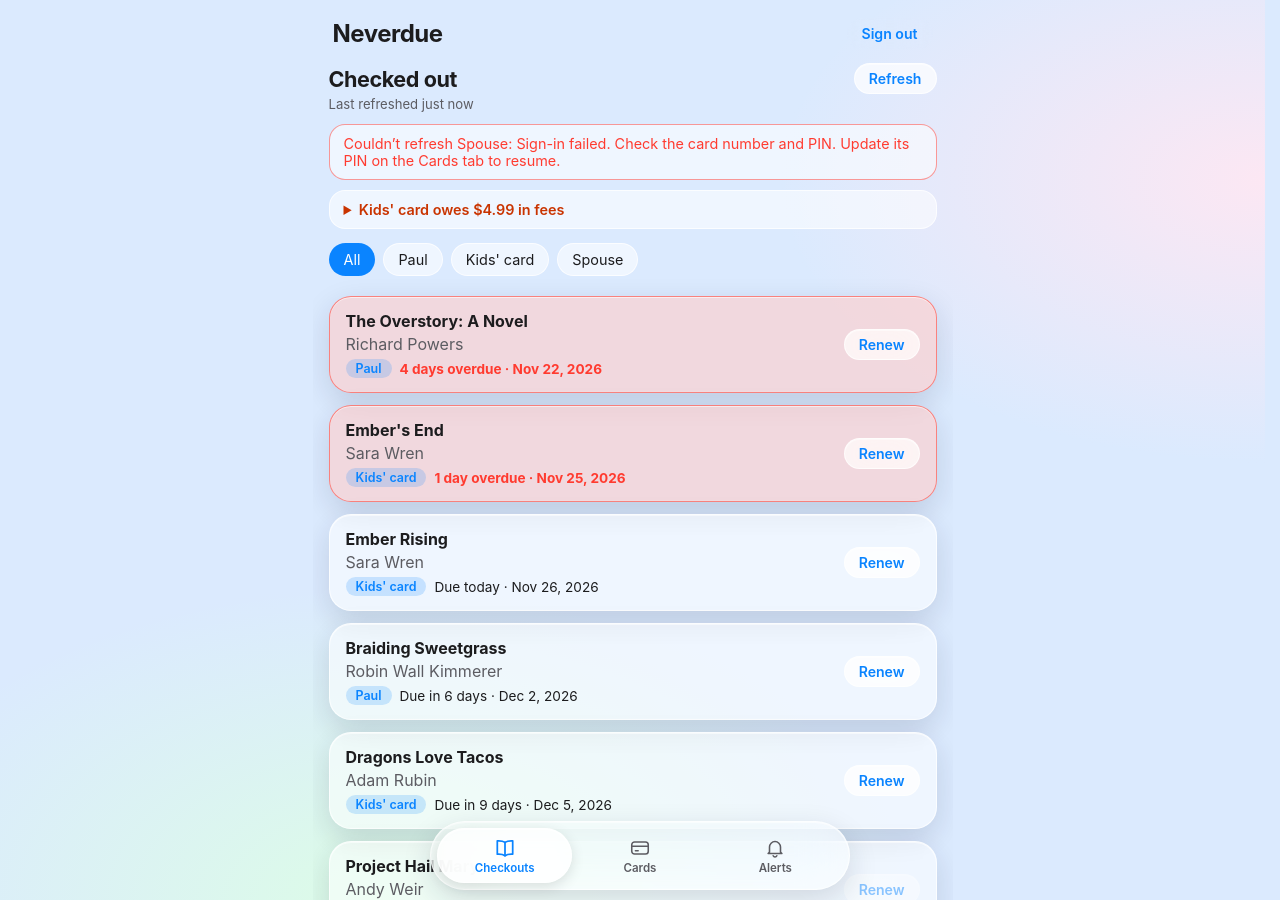
it: App › does not refetch prefs when switching back to the Alerts tab
Expected: the text "The Overstory: A Novel" is shown, [346,311,528,331]
Click the link "Alerts": (775, 856) [759,837,792,875]
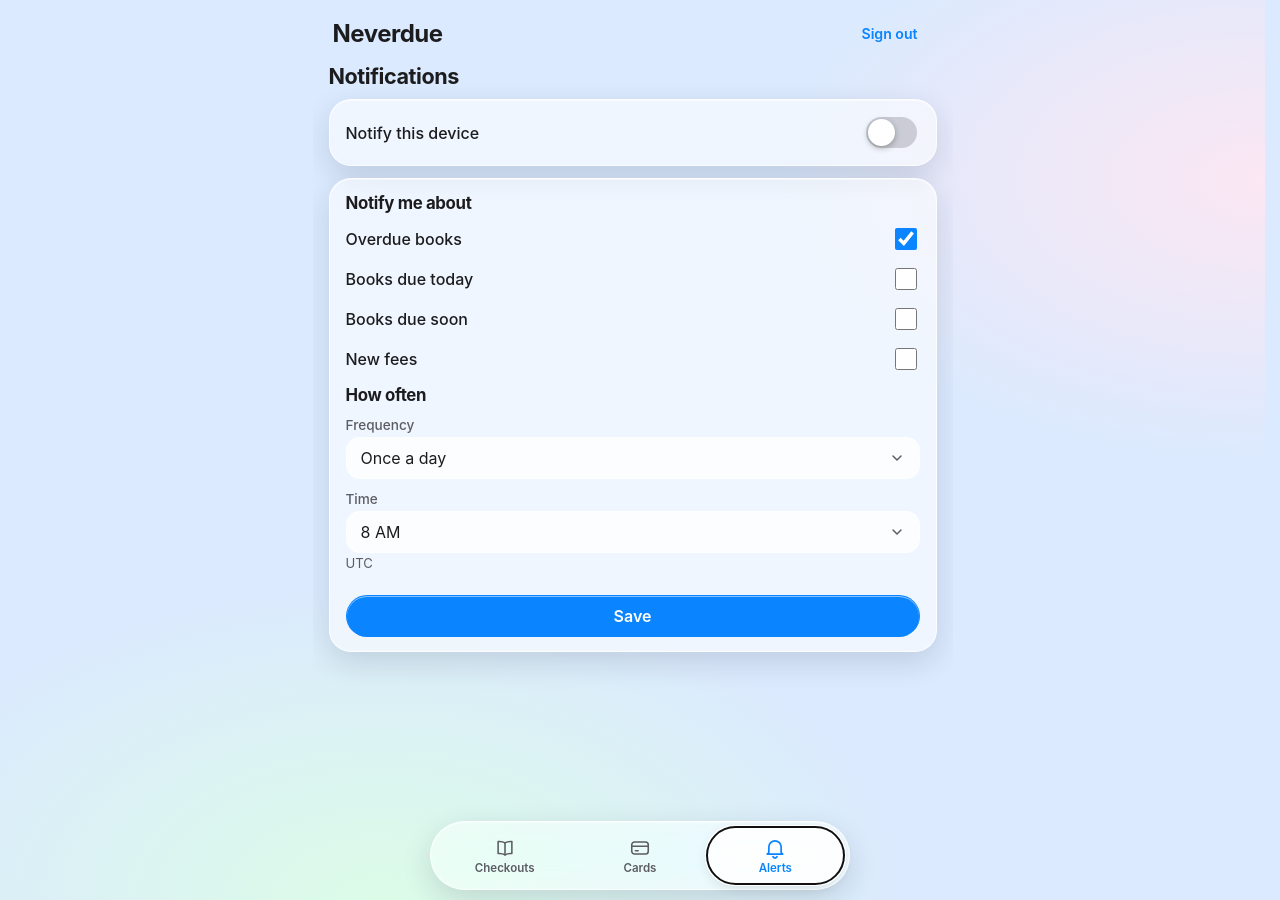
Expected: the heading "Notifications" is shown, [328,63,459,89]
Click the link "Checkouts": (505, 856) [475,837,534,875]
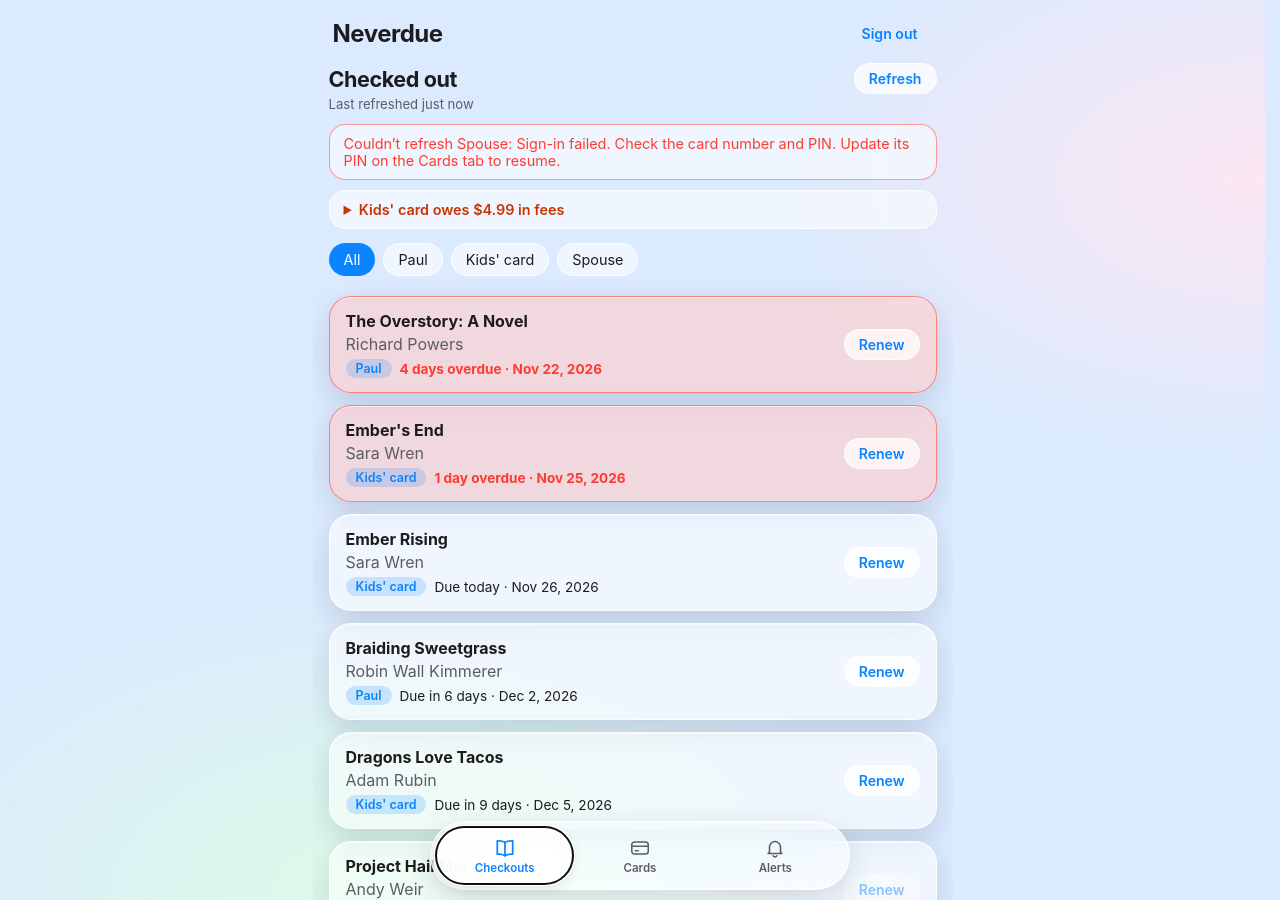
Expected: the text "The Overstory: A Novel" is shown, [346,311,528,331]
Click the link "Alerts": (775, 856) [759,837,792,875]
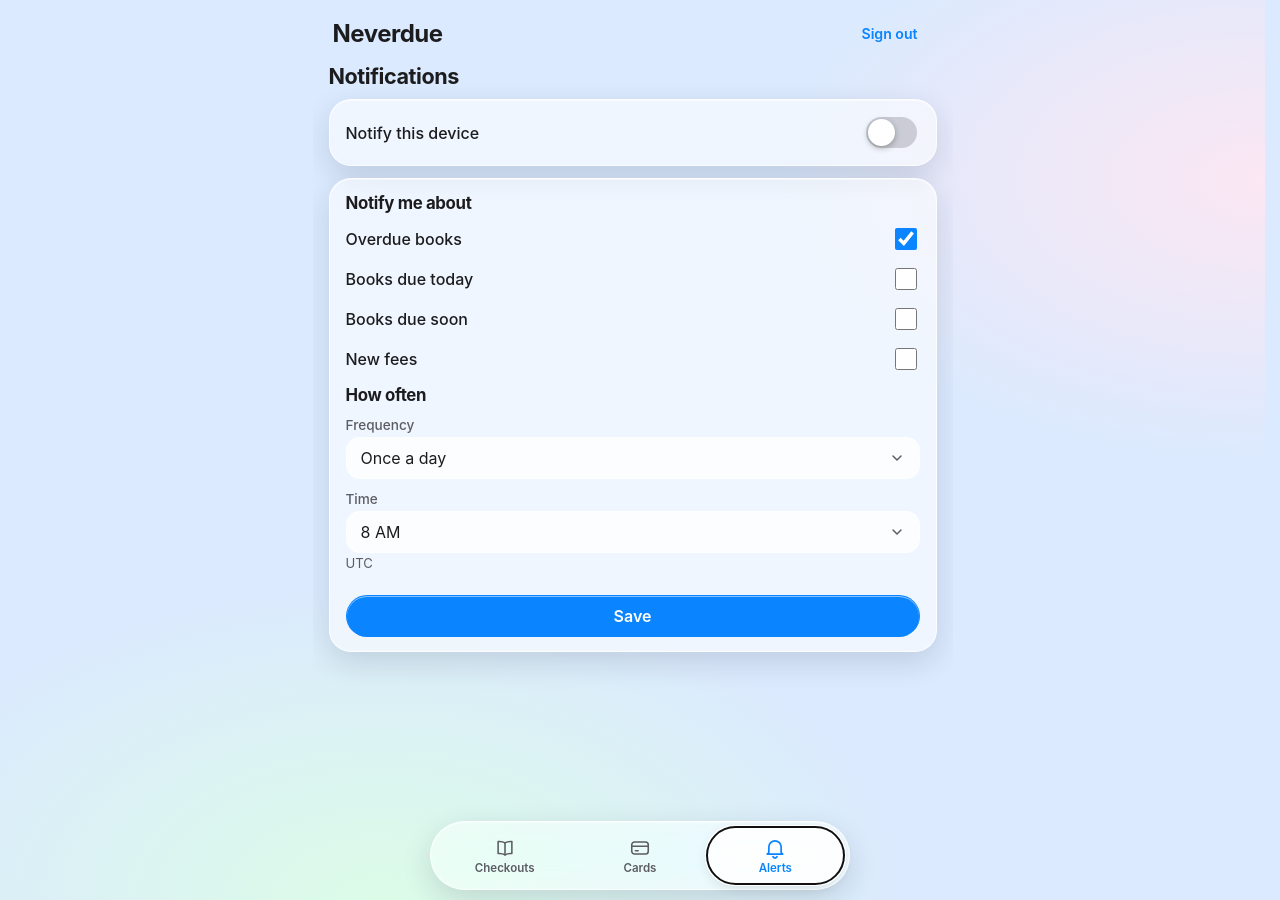
Expected: the heading "Notifications" is shown, [328,63,459,89]
